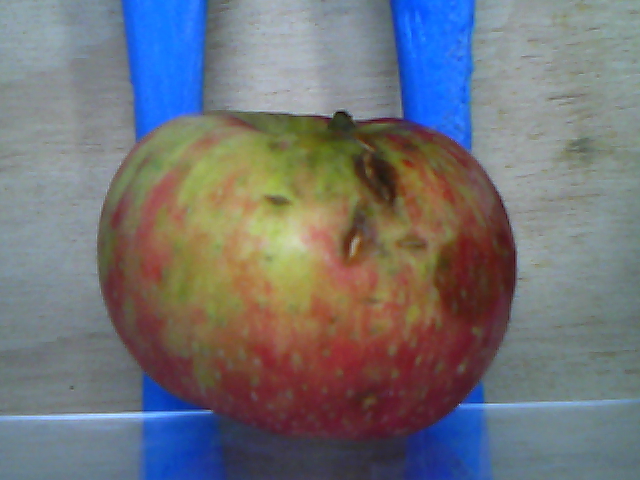cut: (357, 149, 394, 203), (346, 228, 363, 260)
